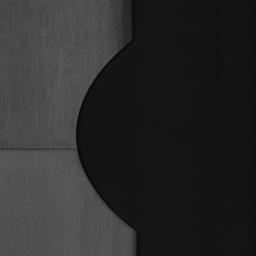Crescent gap: (76, 47, 133, 229), (135, 255, 195, 256)
